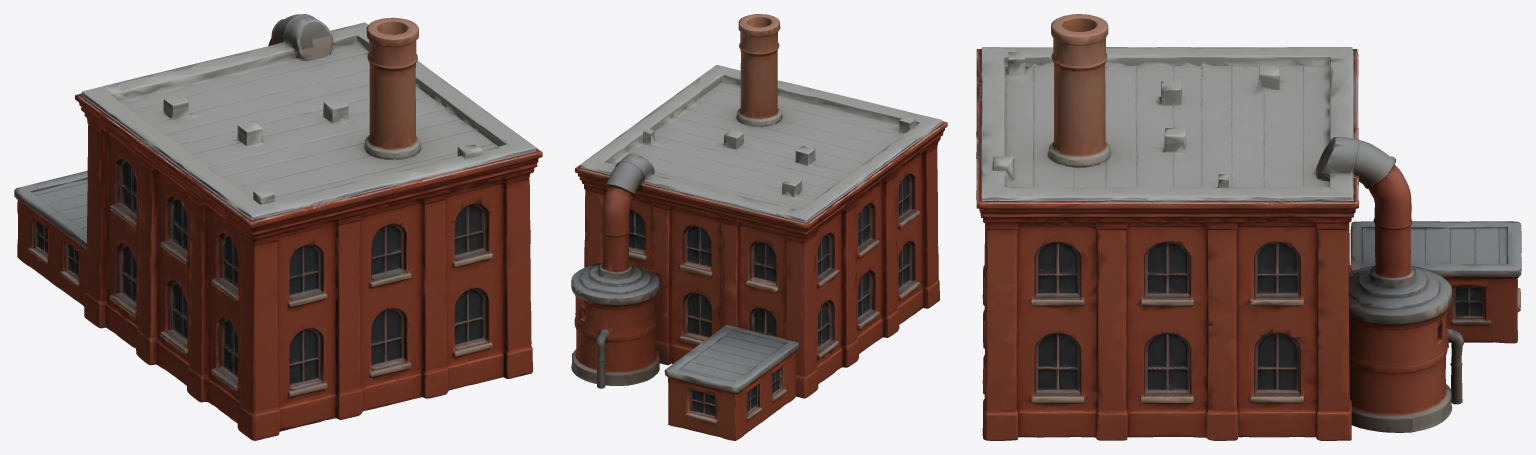
The model's file is factory3d1.glb.
The picture shows the model from 3 angles, left to right: view 1: azimuth 30°, elevation 25°; view 2: azimuth 150°, elevation 25°; view 3: azimuth 270°, elevation 25°; orthographic projection. The views are drawn at different scales.
Parts seen in each view (by area): view 1: tripo_node_a20e8fe2-1846-42fb-bed2-03178a94f51f; view 2: tripo_node_a20e8fe2-1846-42fb-bed2-03178a94f51f; view 3: tripo_node_a20e8fe2-1846-42fb-bed2-03178a94f51f.
Boxes of the visible parts, box(x1,y1,x2,y2) form: tripo_node_a20e8fe2-1846-42fb-bed2-03178a94f51f: box(14, 14, 542, 440); tripo_node_a20e8fe2-1846-42fb-bed2-03178a94f51f: box(571, 14, 947, 440); tripo_node_a20e8fe2-1846-42fb-bed2-03178a94f51f: box(976, 14, 1521, 440).
Bounding box in the file's own units: 0.6718 × 0.7387 × 1.
1 material, 1 textured.
